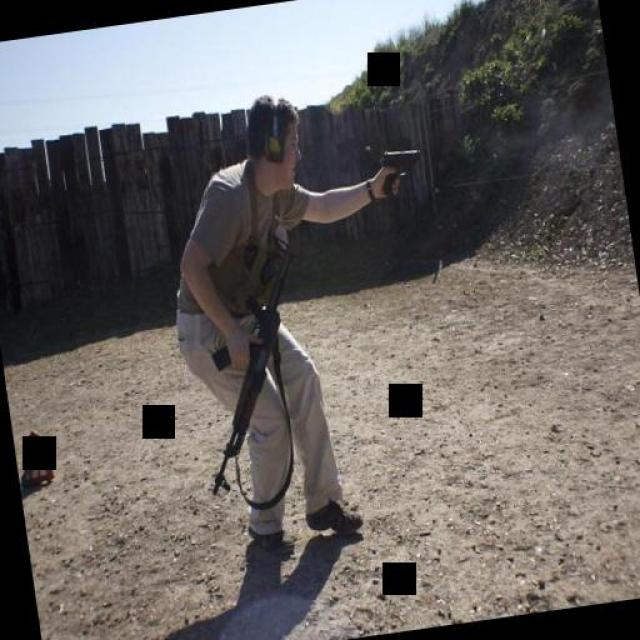gun: (370, 140, 429, 200)
